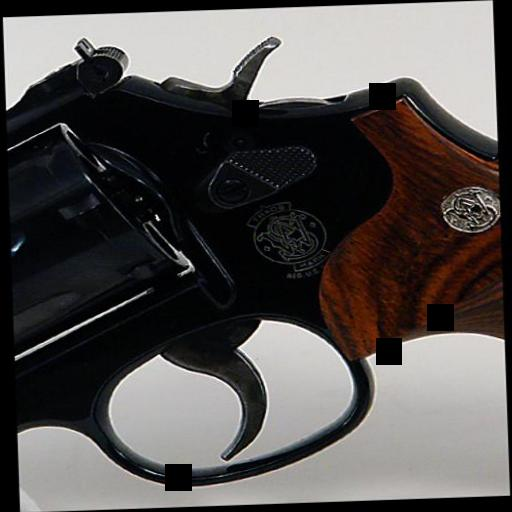Handgun: (1, 22, 510, 494)
